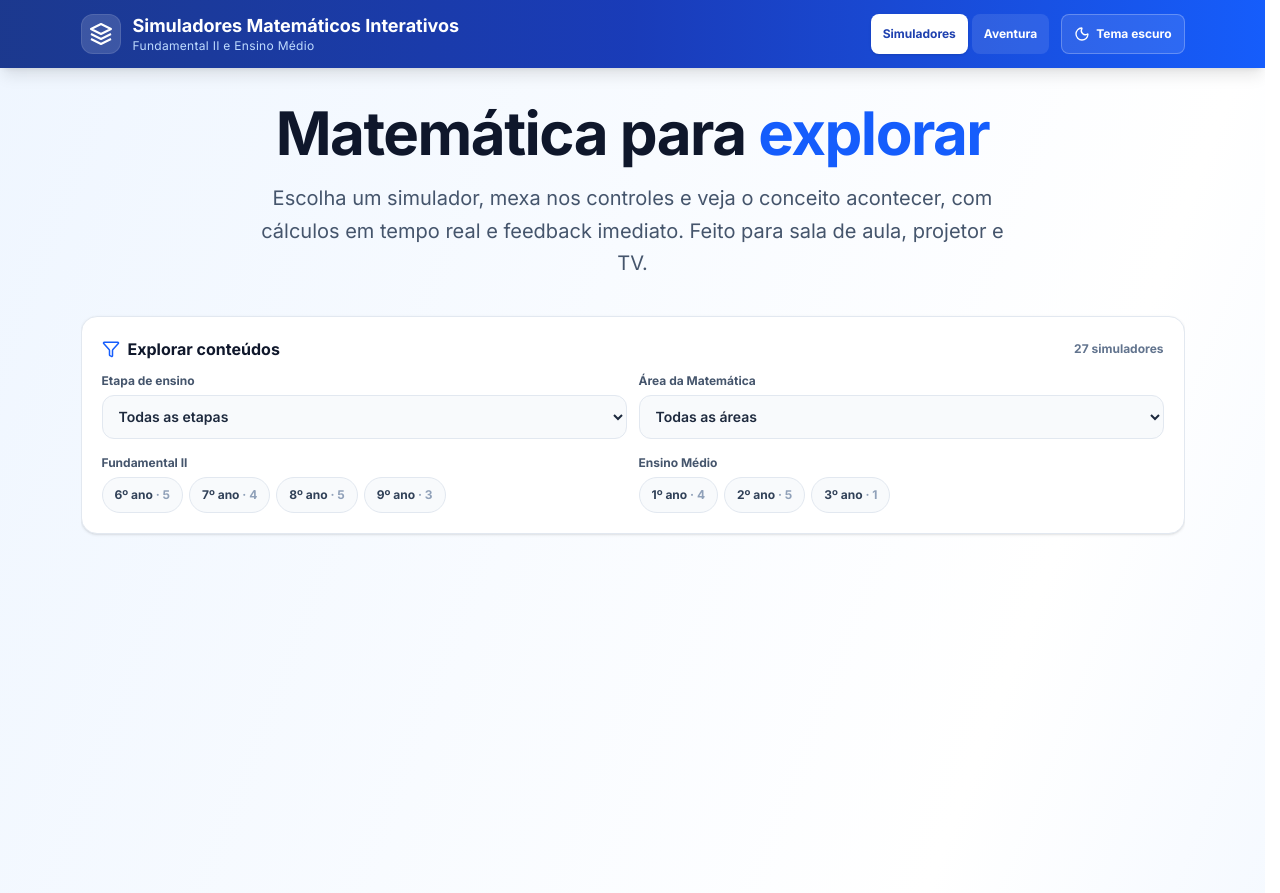
Test: Rotas dos simuladores › filtrar por ano mostra só os simuladores daquele ano
Click the button "9º ano · 3" at (405, 494), box [364,476,446,512]
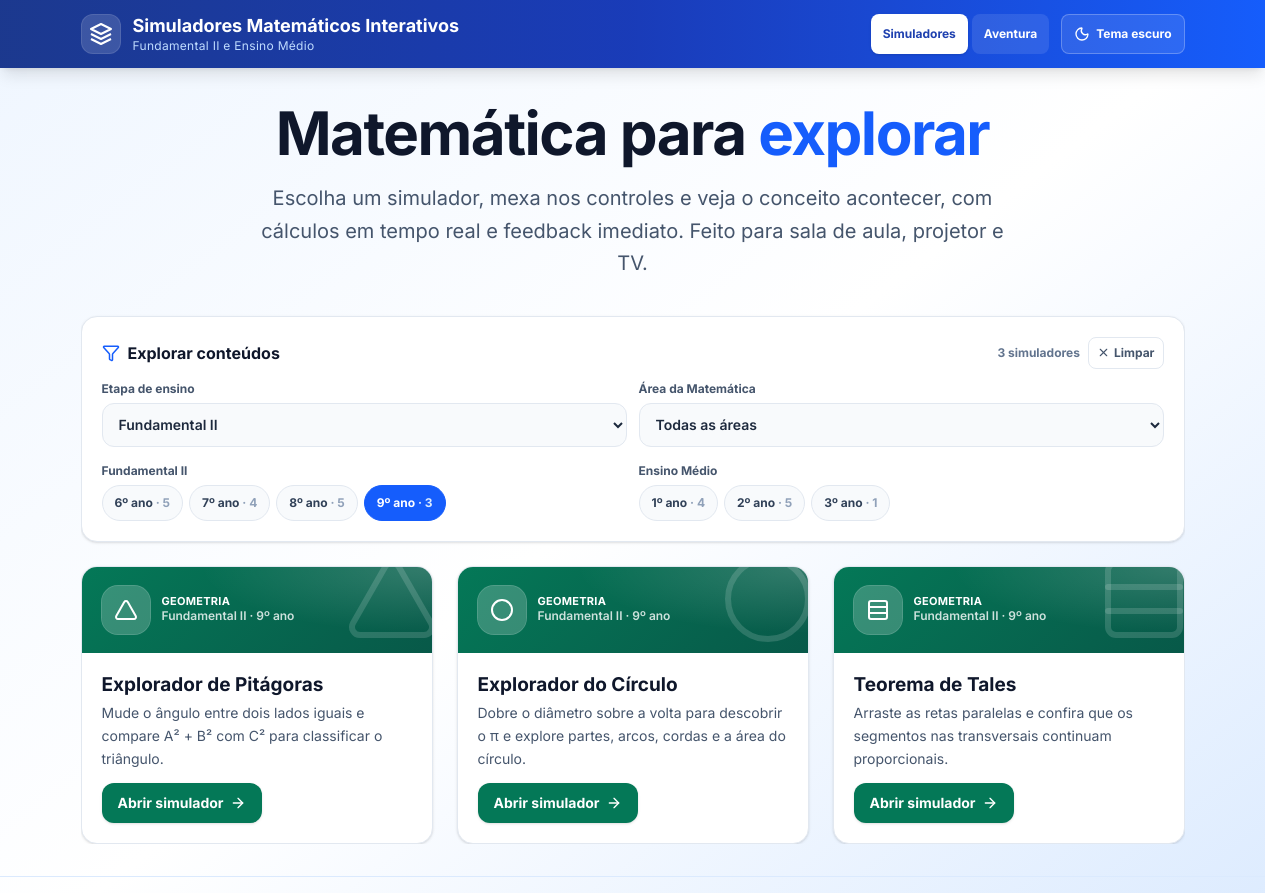
Now the link with aria-label "Abrir Explorador de Pitágoras" is shown, box [80,566,432,844]
